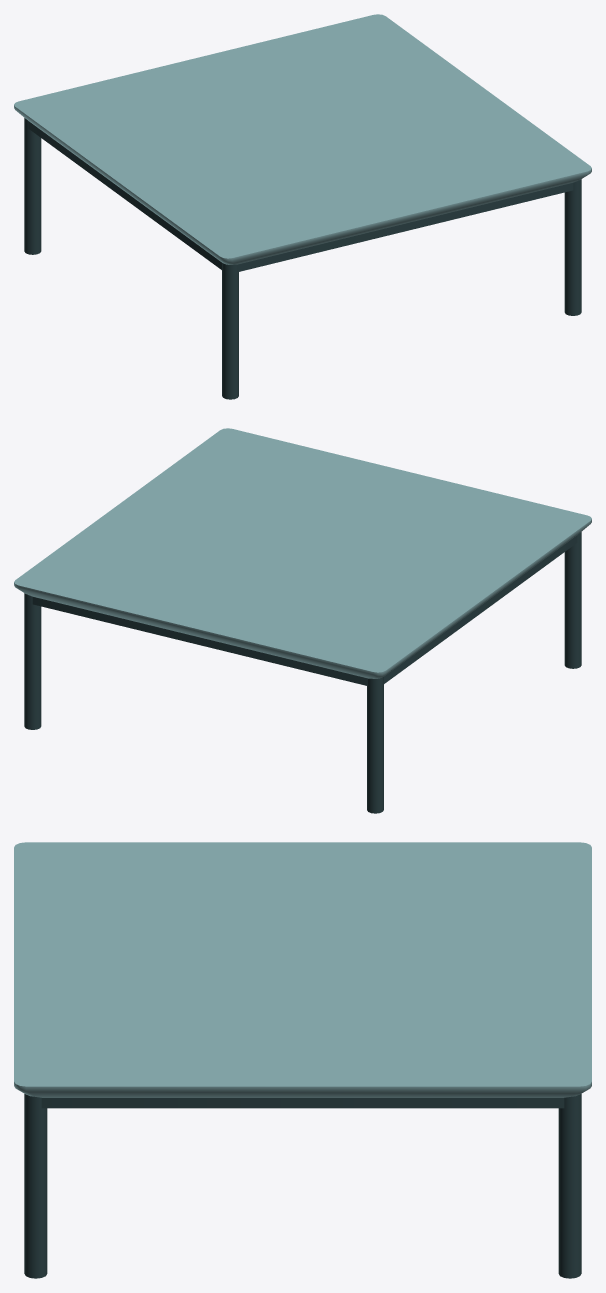
Rendered from EM_133_blue_table.glb.
3 renders of one model, top to bottom at view 1: azimuth 30°, elevation 25°; view 2: azimuth 150°, elevation 25°; view 3: azimuth 270°, elevation 25°, orthographic. The views are drawn at different scales.
Visible parts, largest first — view 1: table, legs; view 2: table, legs; view 3: table, legs.
Boxes of the visible parts, x1,y1,x2,y2 form: table: [14, 14, 591, 271]; legs: [24, 118, 581, 399]; table: [14, 428, 591, 685]; legs: [24, 532, 581, 813]; table: [14, 842, 591, 1108]; legs: [24, 1094, 581, 1278].
Bounding box in the file's own units: 3 × 1.12 × 3.
